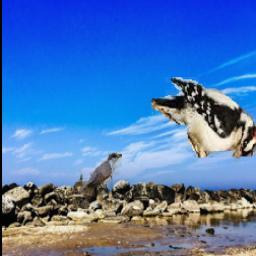Cuckoo: (75, 152, 122, 195)
Woodpecker: (147, 77, 256, 162)
